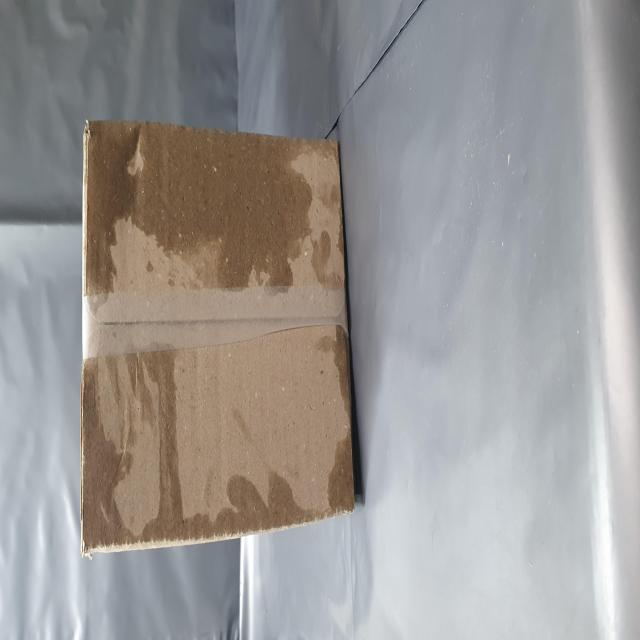wet: (194, 147, 294, 558), (47, 138, 168, 324), (58, 327, 118, 640)
